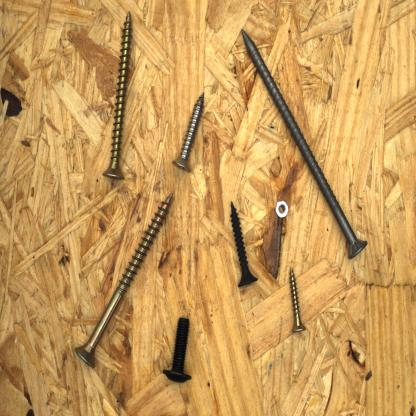screw: (240, 26, 372, 262), (71, 189, 177, 372), (98, 8, 134, 181), (166, 88, 209, 175), (228, 198, 262, 291), (162, 314, 194, 388), (286, 265, 308, 335)
